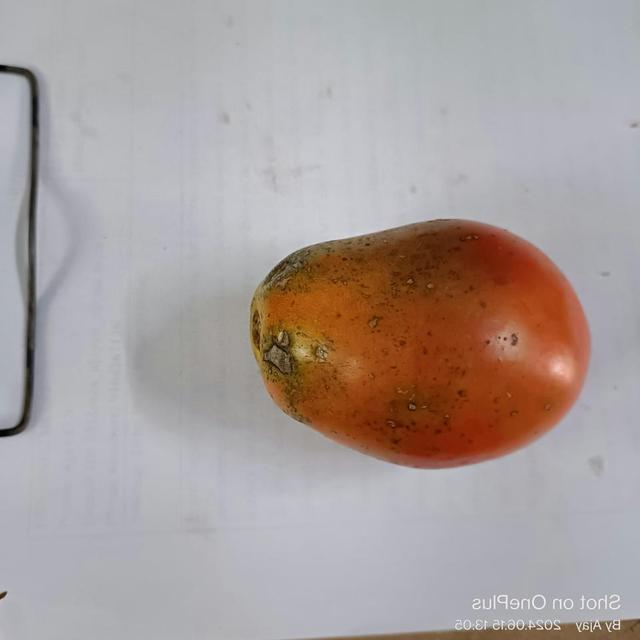Bacterial Spot Fruit: (26, 20, 192, 237)
